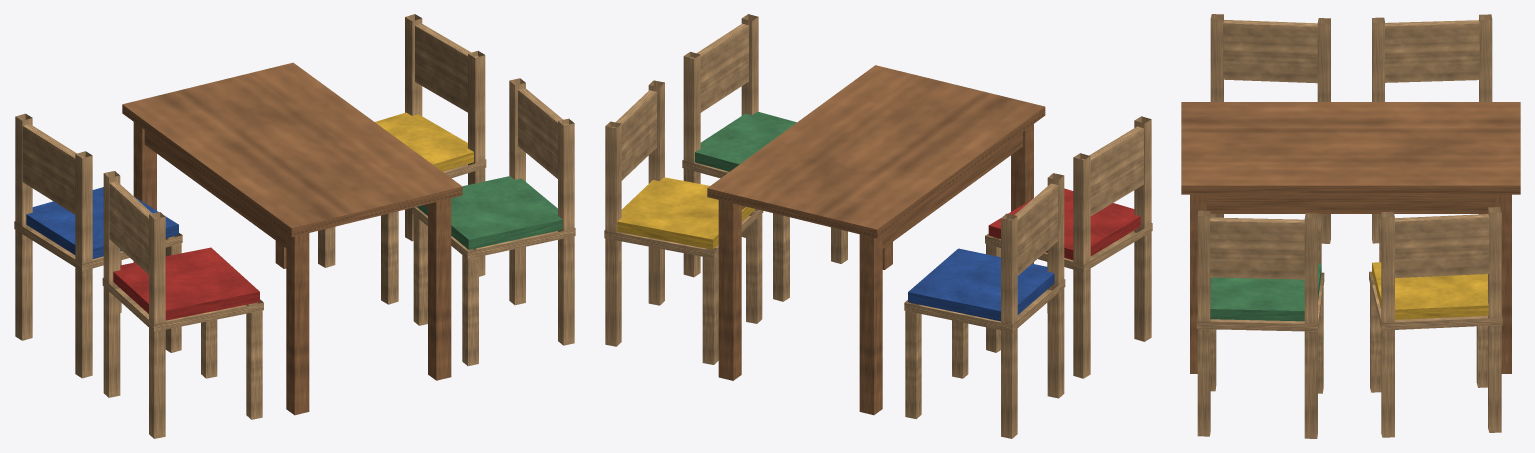
File: SM_Molo_SetLegno_LOD1.fbx
3 renders of one model, left to right at view 1: azimuth 30°, elevation 25°; view 2: azimuth 150°, elevation 25°; view 3: azimuth 270°, elevation 25°, orthographic.
Parts seen in each view (by area): view 1: SM_Molo_SetLegno_LOD1; view 2: SM_Molo_SetLegno_LOD1; view 3: SM_Molo_SetLegno_LOD1.
Boxes of the visible parts, <box> form: SM_Molo_SetLegno_LOD1: <box>14,14,575,438</box>; SM_Molo_SetLegno_LOD1: <box>604,14,1152,438</box>; SM_Molo_SetLegno_LOD1: <box>1181,14,1520,438</box>.
Bounding box in the file's own units: 172 × 120 × 86.
1 material, 1 textured.
